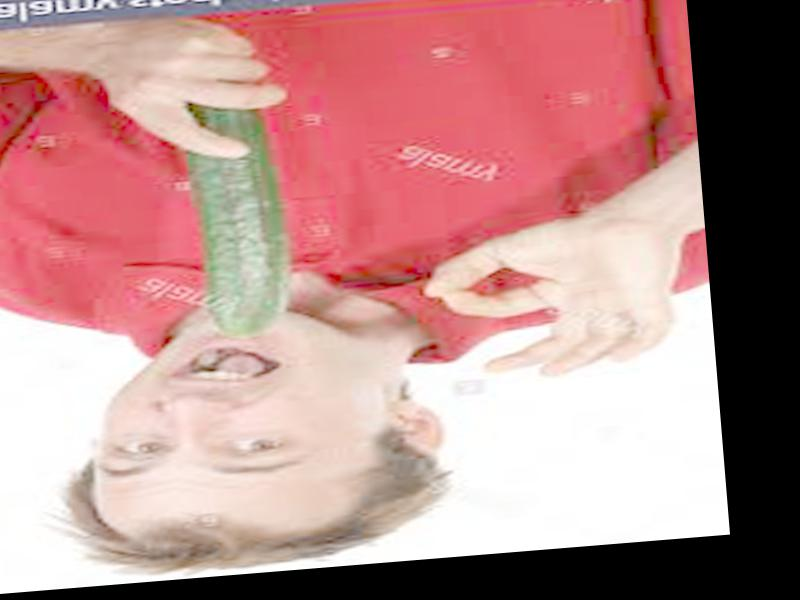Cucumber: (192, 100, 283, 337)
